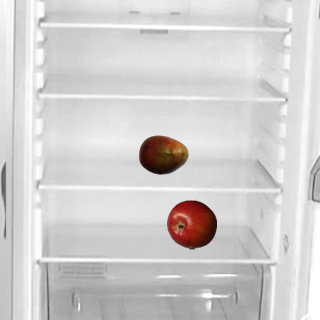Apple Braeburn: (166, 199, 216, 249)
Mango Red: (138, 129, 188, 179)
